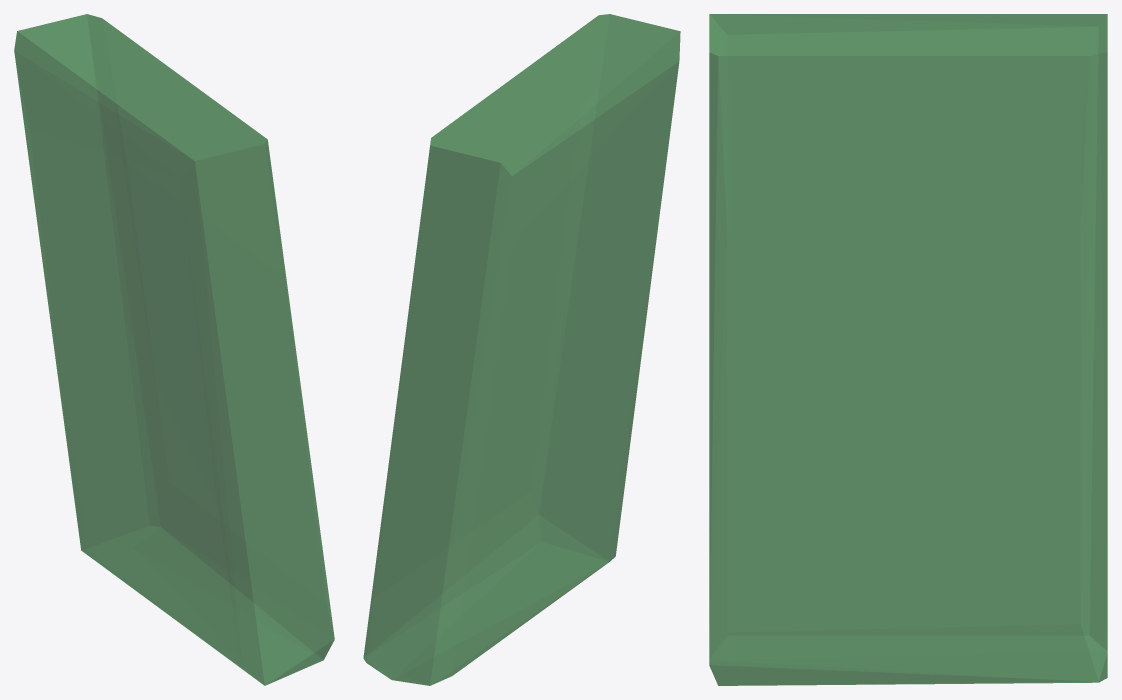
3 views of the same model, side by side, from view 1: azimuth 30°, elevation 25°; view 2: azimuth 150°, elevation 25°; view 3: azimuth 270°, elevation 25° (orthographic). The views are drawn at different scales.
Visible parts, largest first — view 1: Shape_IndexedFaceSet.003_Shape_IndexedFaceSet.5717; view 2: Shape_IndexedFaceSet.003_Shape_IndexedFaceSet.5717; view 3: Shape_IndexedFaceSet.003_Shape_IndexedFaceSet.5717.
Boxes of the visible parts, bbox=[...] form: Shape_IndexedFaceSet.003_Shape_IndexedFaceSet.5717: bbox=[14, 14, 334, 685]; Shape_IndexedFaceSet.003_Shape_IndexedFaceSet.5717: bbox=[363, 14, 680, 685]; Shape_IndexedFaceSet.003_Shape_IndexedFaceSet.5717: bbox=[709, 14, 1107, 685].
Bounding box in the file's own units: 0.0529 × 0.1865 × 0.1109.
